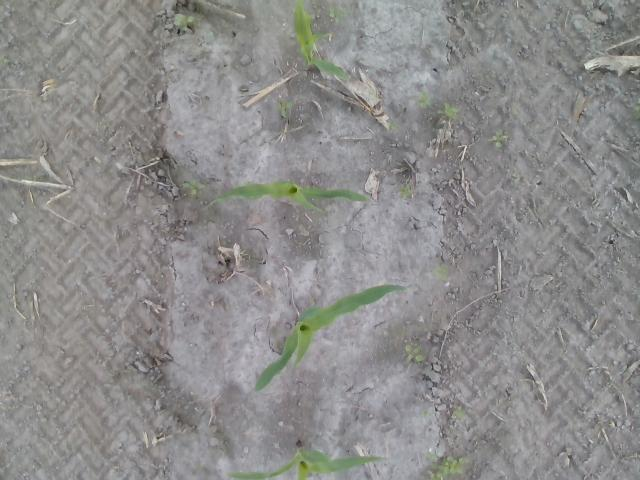Maize: (252, 284, 406, 389), (226, 441, 388, 480), (201, 180, 371, 214), (293, 0, 352, 81)
Weeds: (424, 451, 466, 480), (486, 128, 508, 148), (172, 13, 195, 30), (436, 102, 458, 119), (182, 180, 205, 196), (404, 344, 424, 362), (412, 90, 432, 107), (274, 99, 292, 116), (328, 5, 344, 24), (432, 265, 448, 281), (398, 184, 412, 200), (452, 406, 465, 418), (23, 175, 45, 182), (634, 97, 640, 119), (387, 120, 398, 131), (0, 56, 9, 66), (512, 172, 520, 182), (508, 107, 518, 115), (101, 118, 108, 128), (421, 409, 429, 417)
